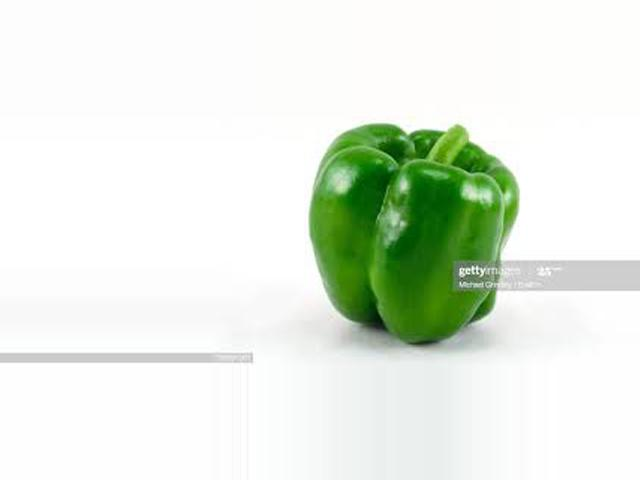bell_pepper: (299, 111, 515, 352)
